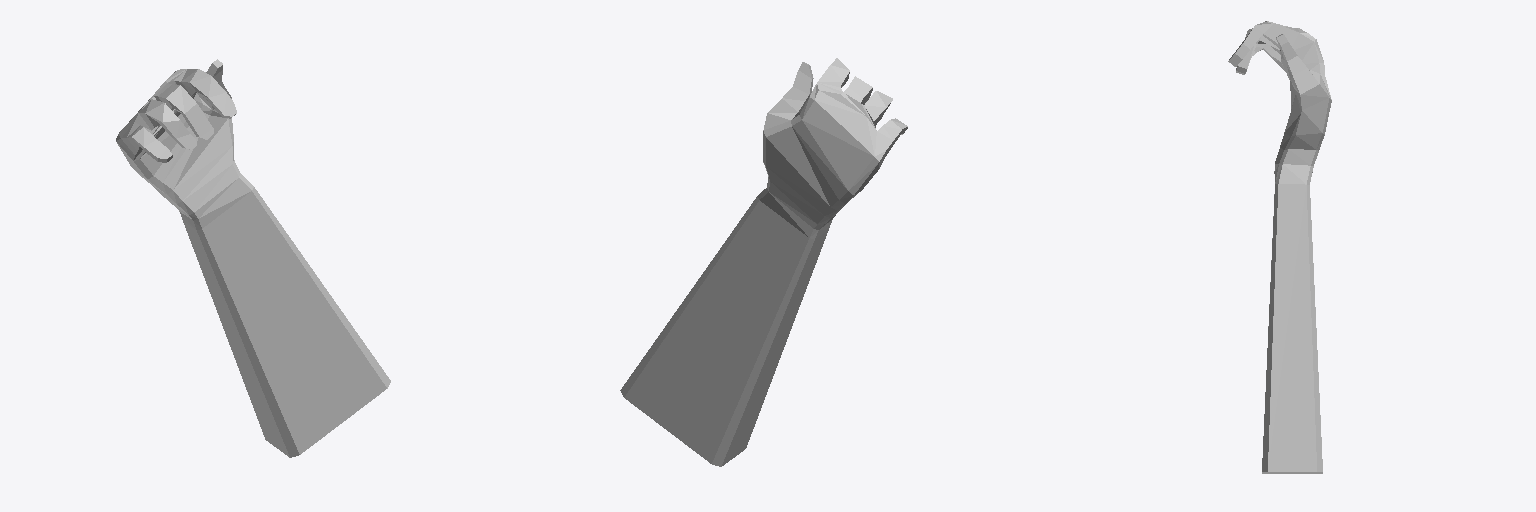
The model's file is hand_anim4.obj.
3 views of the same model, side by side, from view 1: azimuth 30°, elevation 25°; view 2: azimuth 150°, elevation 25°; view 3: azimuth 270°, elevation 25° (orthographic).
Visible parts, largest first — view 1: Cube.001; view 2: Cube.001; view 3: Cube.001.
Boxes of the visible parts, <box> form: Cube.001: <box>116,59,390,457</box>; Cube.001: <box>620,58,907,466</box>; Cube.001: <box>1228,21,1331,473</box>.
Size of the model in its own units: 1.9 by 2.87 by 0.66.